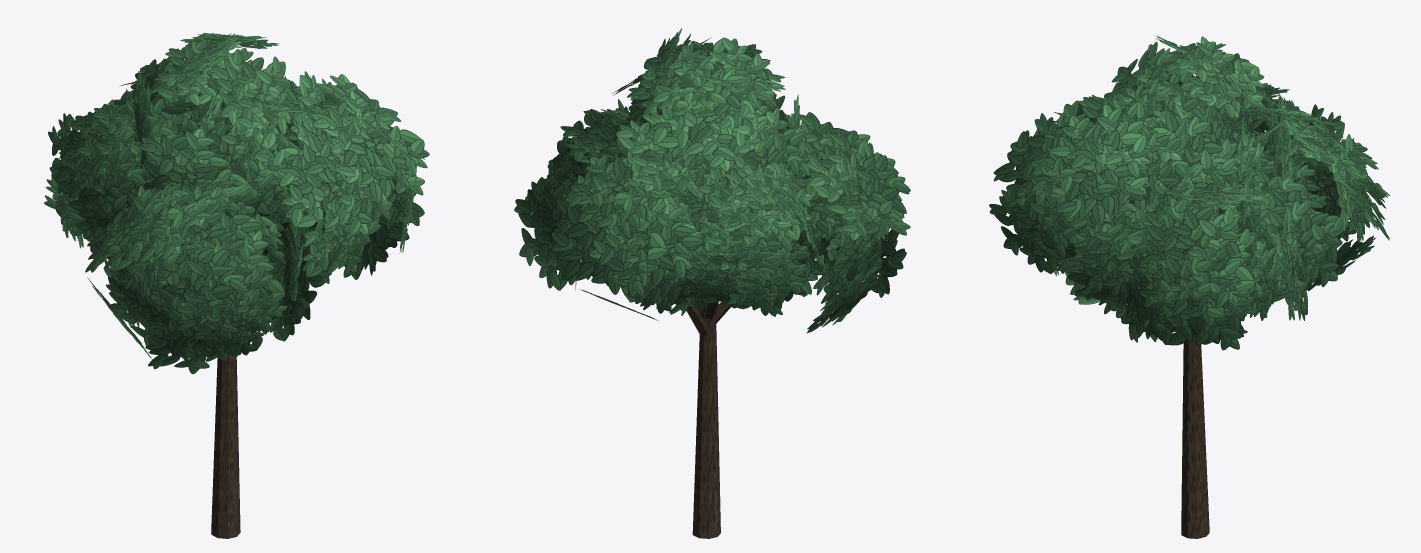
The model's file is carpino_2.glb.
3 views of the same model, side by side, from view 1: azimuth 30°, elevation 25°; view 2: azimuth 150°, elevation 25°; view 3: azimuth 270°, elevation 25° (orthographic). The views are drawn at different scales.
Visible parts, largest first — view 1: carpino_2; view 2: carpino_2; view 3: carpino_2.
Boxes of the visible parts, bbox=[...] form: carpino_2: bbox=[44, 33, 429, 538]; carpino_2: bbox=[514, 28, 910, 538]; carpino_2: bbox=[989, 35, 1389, 538].
Bounding box in the file's own units: 9.52 × 12.06 × 9.62.
2 materials, 2 textured.
